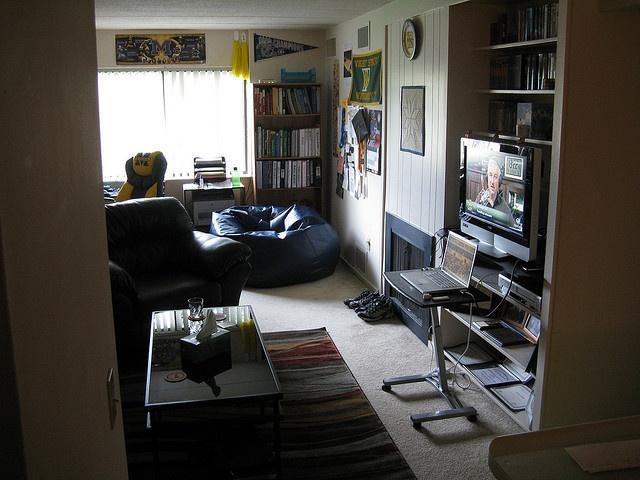AIO PC-Monitor-TV: (459, 136, 541, 263)
Rak: (252, 82, 324, 192)
